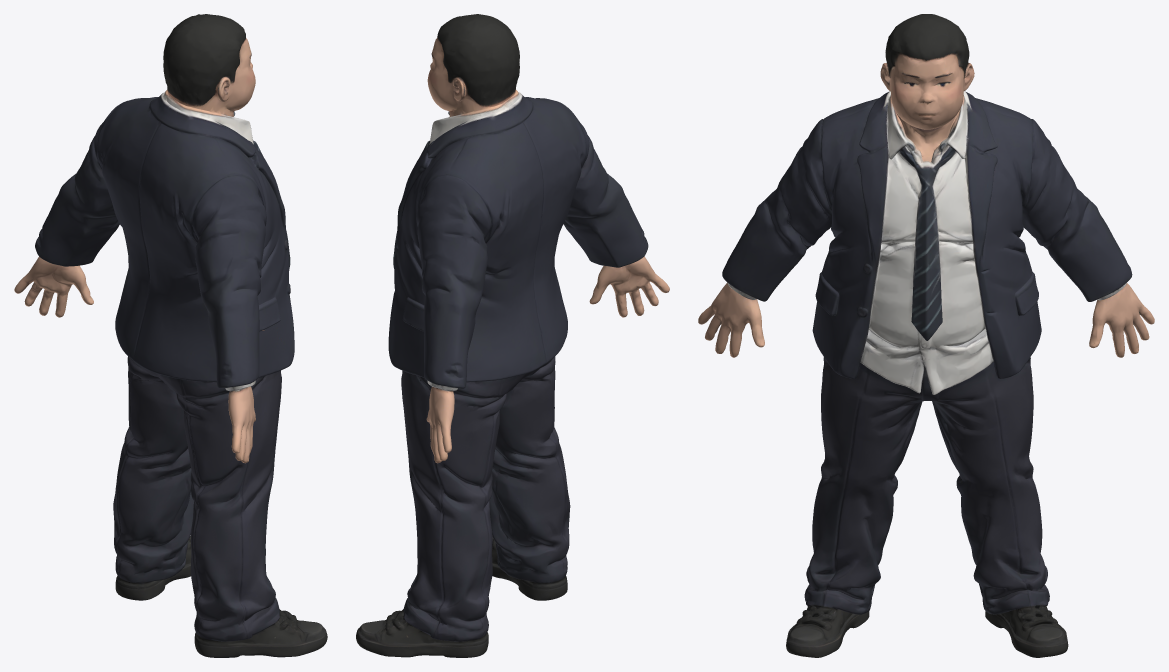
The model's file is geonwoo_tripo.glb.
The picture shows the model from 3 angles, left to right: view 1: azimuth 30°, elevation 25°; view 2: azimuth 150°, elevation 25°; view 3: azimuth 270°, elevation 25°; orthographic projection. The views are drawn at different scales.
Visible parts, largest first — view 1: tripo_node_5c6dde09-c5ec-4eda-81d7-006b0d4483cf; view 2: tripo_node_5c6dde09-c5ec-4eda-81d7-006b0d4483cf; view 3: tripo_node_5c6dde09-c5ec-4eda-81d7-006b0d4483cf.
Boxes of the visible parts, x1,y1,x2,y2 form: tripo_node_5c6dde09-c5ec-4eda-81d7-006b0d4483cf: [14, 14, 327, 657]; tripo_node_5c6dde09-c5ec-4eda-81d7-006b0d4483cf: [356, 14, 669, 657]; tripo_node_5c6dde09-c5ec-4eda-81d7-006b0d4483cf: [698, 14, 1154, 657].
Bounding box in the file's own units: 0.2923 × 1 × 0.674.
1 material, 1 textured.
